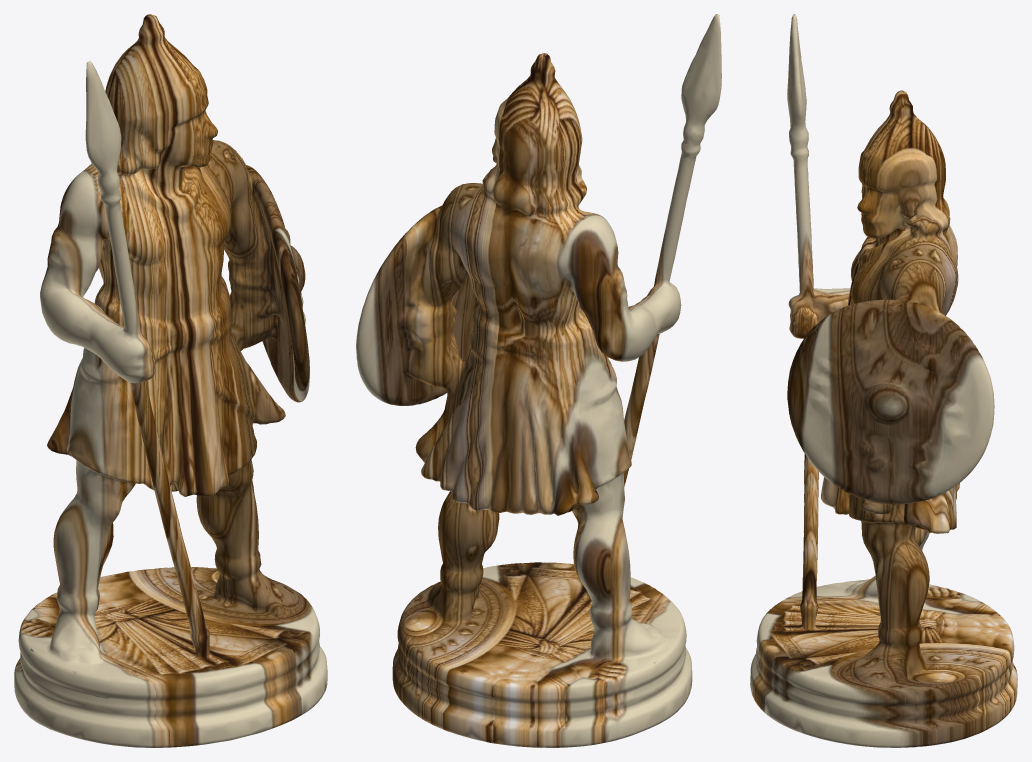
The model's file is padati.glb.
3 views of the same model, side by side, from view 1: azimuth 30°, elevation 25°; view 2: azimuth 150°, elevation 25°; view 3: azimuth 270°, elevation 25° (orthographic). The views are drawn at different scales.
Parts seen in each view (by area): view 1: geometry_0; view 2: geometry_0; view 3: geometry_0.
Boxes of the visible parts, x1,y1,x2,y2 form: geometry_0: [14, 14, 327, 747]; geometry_0: [356, 14, 721, 747]; geometry_0: [750, 14, 1017, 747].
Bounding box in the file's own units: 0.8157 × 1.98 × 0.7698.
1 material, 1 textured.
